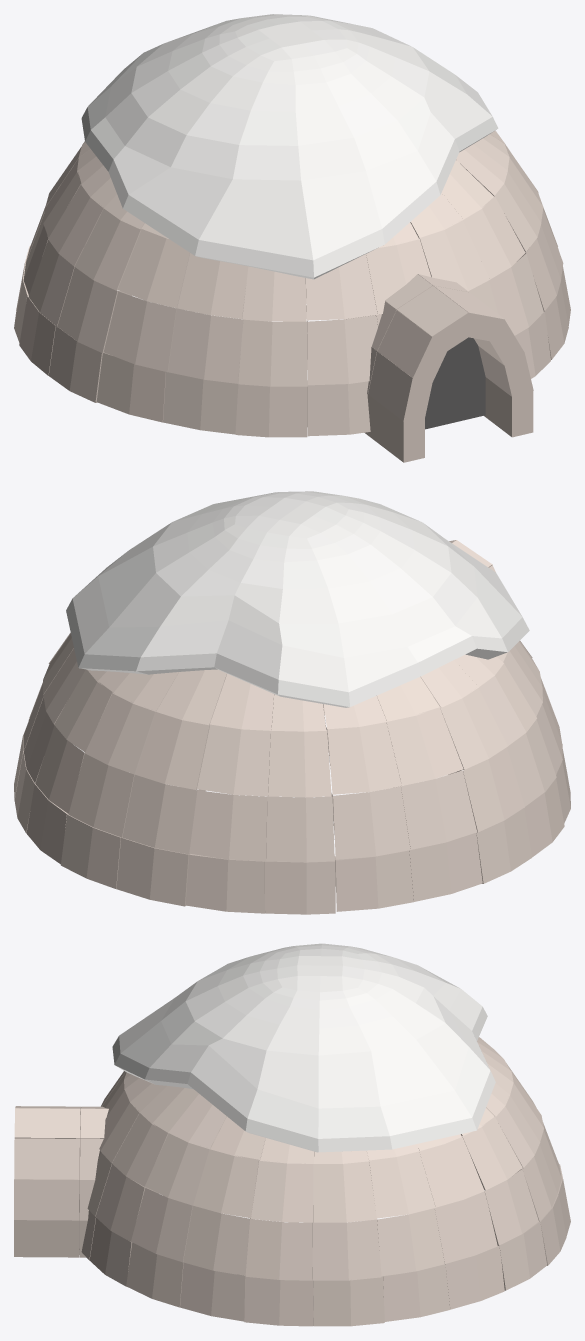
The model's file is Isl_16_Hut.fbx.
3 renders of one model, top to bottom at view 1: azimuth 30°, elevation 25°; view 2: azimuth 150°, elevation 25°; view 3: azimuth 270°, elevation 25°, orthographic. The views are drawn at different scales.
Visible parts, largest first — view 1: Isl_16_Hut; view 2: Isl_16_Hut; view 3: Isl_16_Hut.
Part boxes in pixels (bbox=[...]): Isl_16_Hut: bbox=[14, 14, 570, 462]; Isl_16_Hut: bbox=[14, 491, 570, 914]; Isl_16_Hut: bbox=[14, 943, 570, 1326].
Bounding box in the file's own units: 600 × 670 × 346.
1 material, 1 textured.
